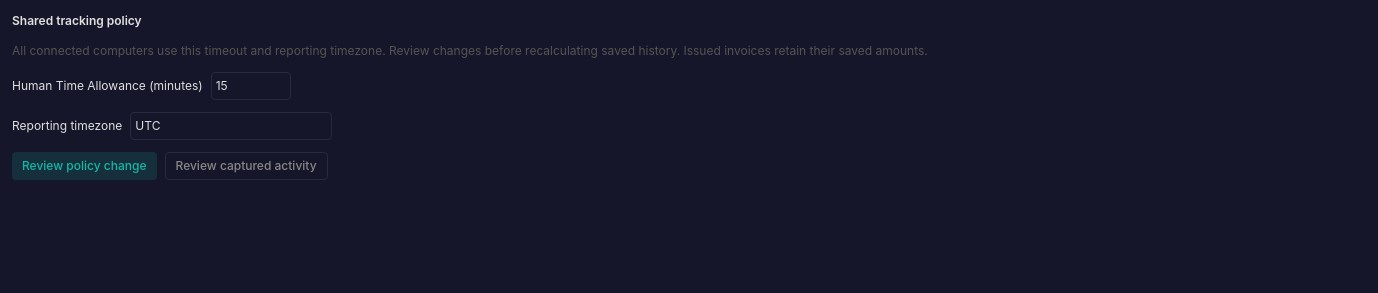
Test case: requires held history acknowledgment and sends the exact reviewed decision
Replace the text in the number field named "Shared human time allowance" with "5" at (251, 86), box [211, 72, 291, 100]
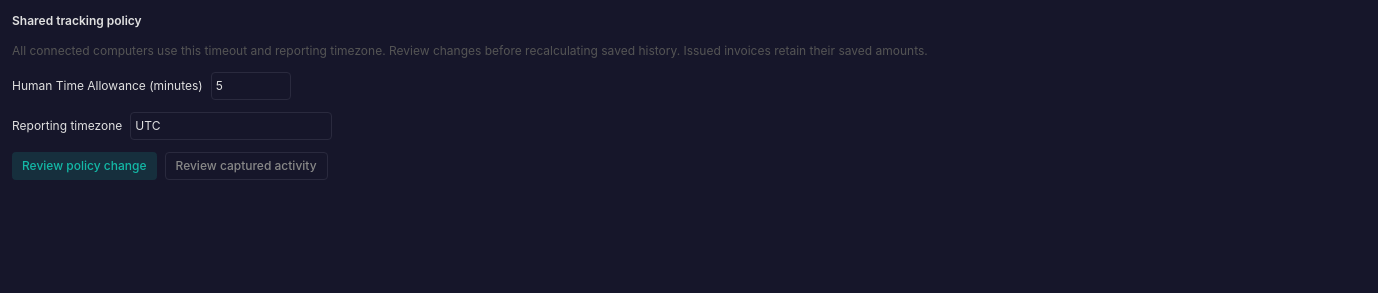
Click the button "Review policy change" at (84, 166), box [12, 152, 156, 180]
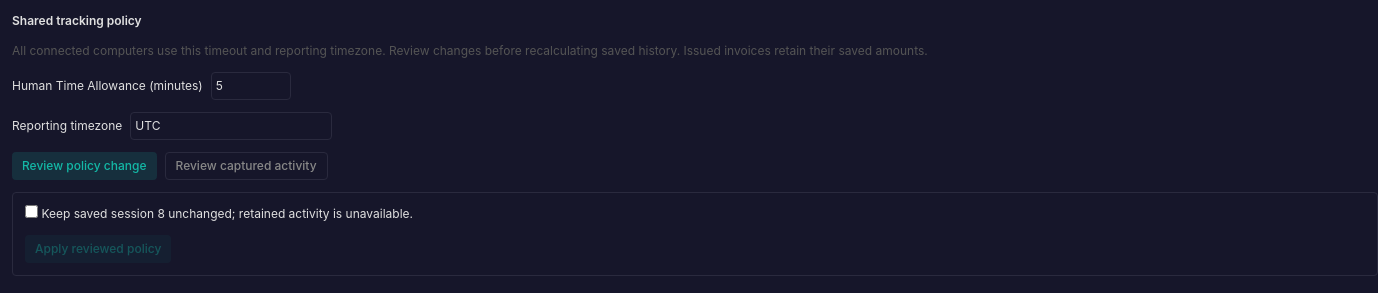
expect the button "Apply reviewed policy" is disabled: met, box [25, 235, 171, 263]
Click the checkbox labelled "Keep saved session 8 unchanged" at (32, 212), box [25, 205, 38, 218]
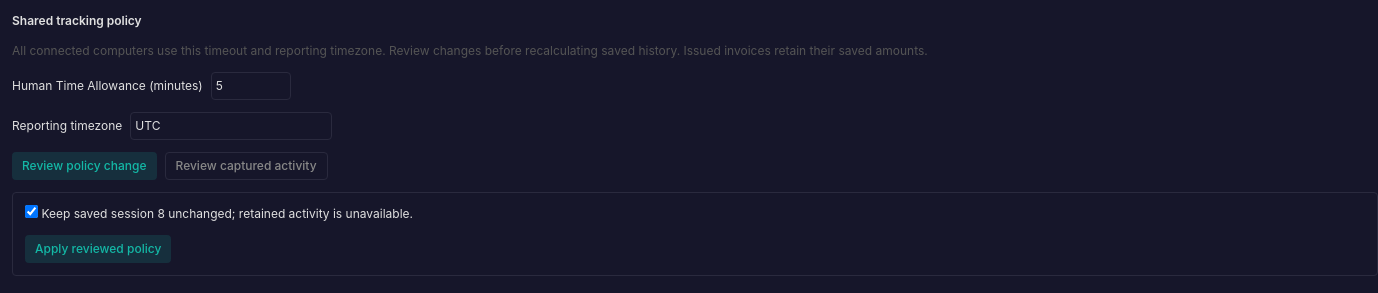
Click the button "Apply reviewed policy" at (98, 249), box [25, 235, 171, 263]
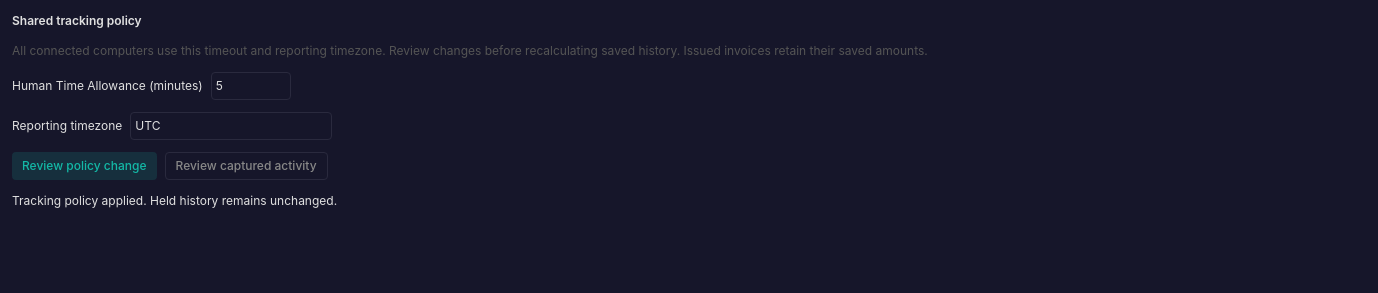
expect the text "Tracking policy applied. Held history remains unchanged." is shown: met, box [12, 193, 337, 208]
